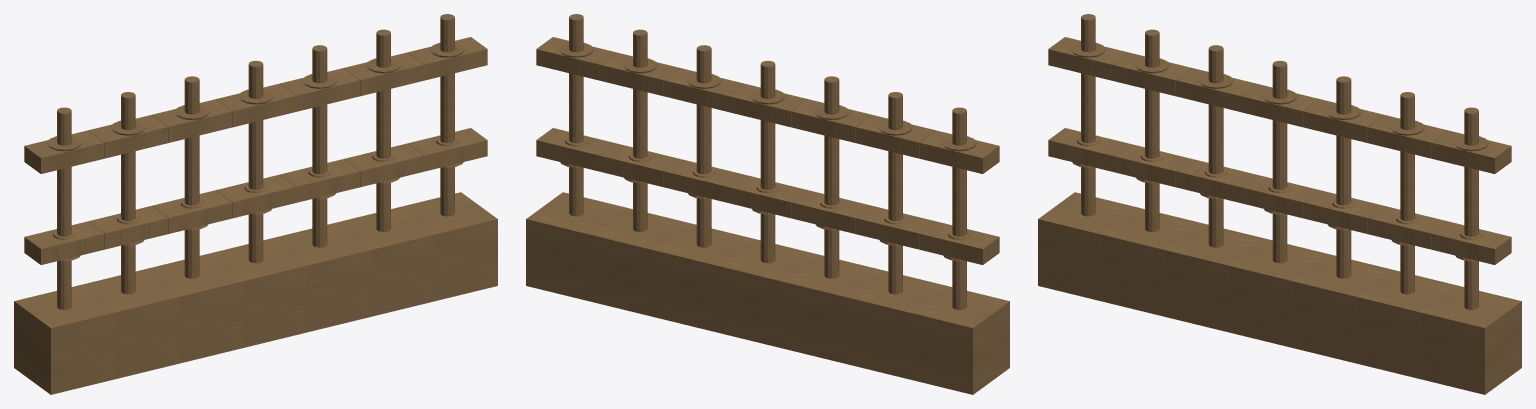
Rendered from Railingx7.glb.
3 views of the same model, side by side, from view 1: azimuth 30°, elevation 25°; view 2: azimuth 150°, elevation 25°; view 3: azimuth 330°, elevation 25° (orthographic).
Parts seen in each view (by area): view 1: Railingx7; view 2: Railingx7; view 3: Railingx7.
Boxes of the visible parts, x1,y1,x2,y2 form: Railingx7: (14,14,497,394); Railingx7: (526,14,1009,394); Railingx7: (1038,14,1521,394).
Size of the model in its own units: 14 by 7.88 by 2.
1 material, 1 textured.
